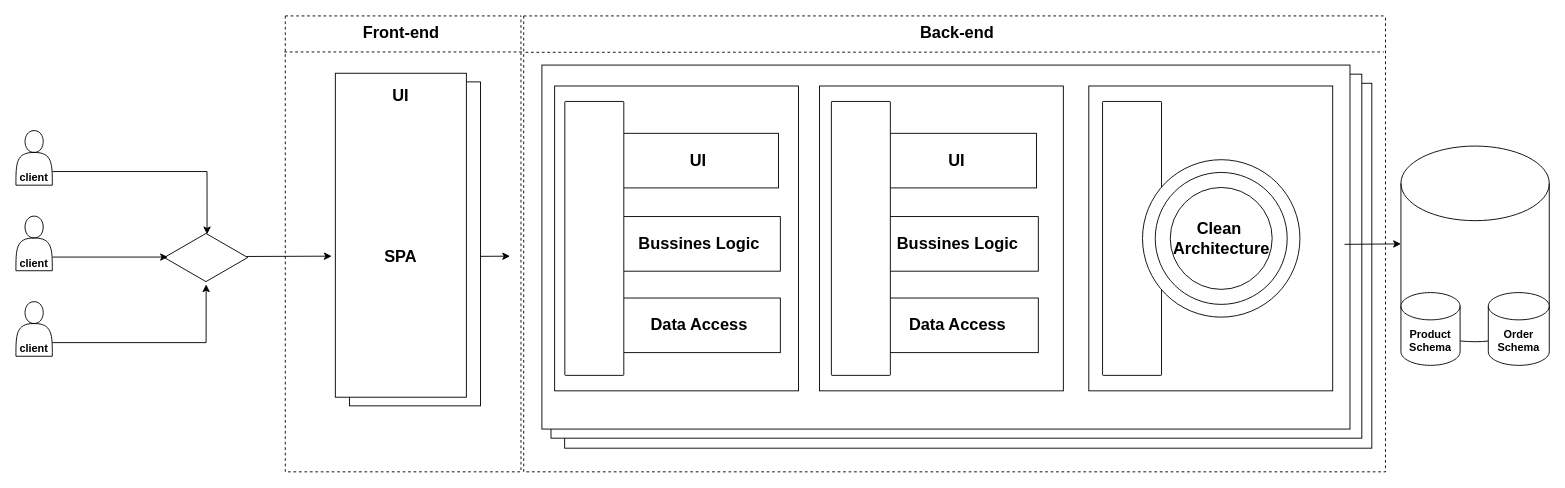
The diagram is 1565 pixels wide and 488 high, and some of its shapes have lost their labels. The shapes that lost their labels are listed below. From the top down, each one's box as (x1, y1, x2, y2) in pixels, then its label:
(163, 232, 248, 283): Load Balander
(564, 101, 624, 375): listing products
(830, 101, 890, 375): add to basket
(1102, 101, 1162, 375): checkout order
(1400, 145, 1549, 342): RDBMS
